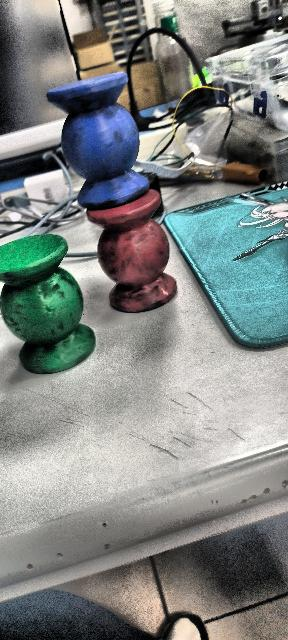blue: (46, 70, 150, 210)
green: (0, 223, 105, 383)
red: (83, 198, 179, 318)
